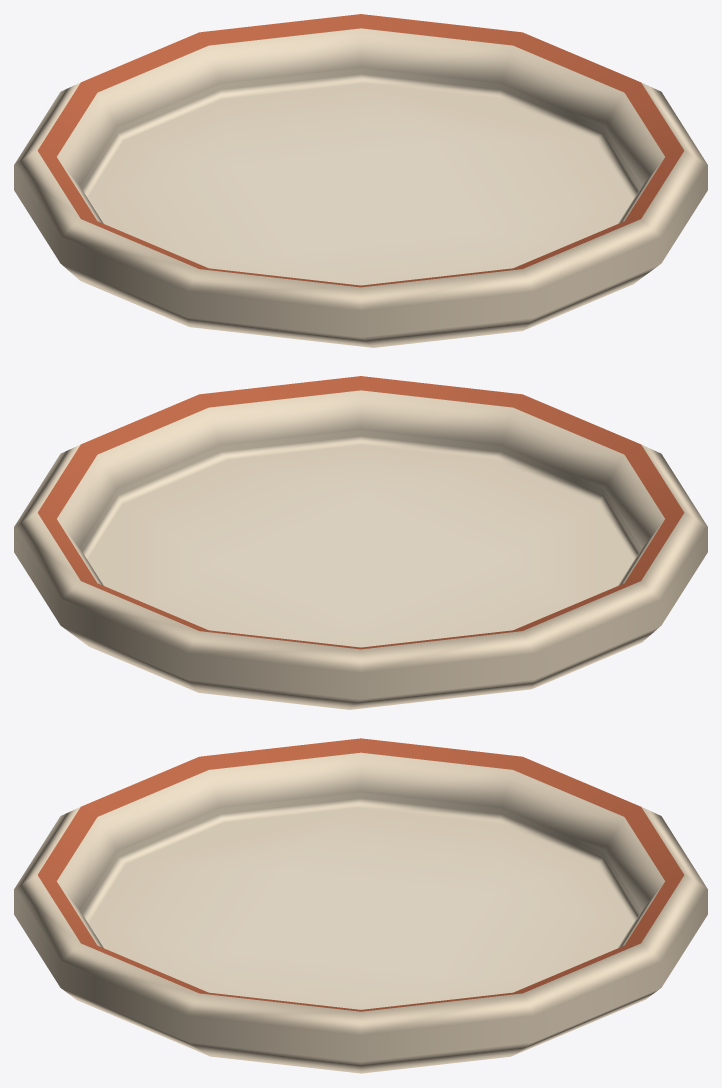
File: SM_CozyShops_Plate.fbx
3 views of the same model, one above another, from view 1: azimuth 30°, elevation 25°; view 2: azimuth 150°, elevation 25°; view 3: azimuth 270°, elevation 25° (orthographic).
Parts seen in each view (by area): view 1: SM_CozyShops_Plate; view 2: SM_CozyShops_Plate; view 3: SM_CozyShops_Plate.
Boxes of the visible parts, <box> form: SM_CozyShops_Plate: <box>14,14,707,347</box>; SM_CozyShops_Plate: <box>14,376,707,709</box>; SM_CozyShops_Plate: <box>14,738,707,1073</box>.
Bounding box in the file's own units: 0.2 × 0.0196 × 0.2.
